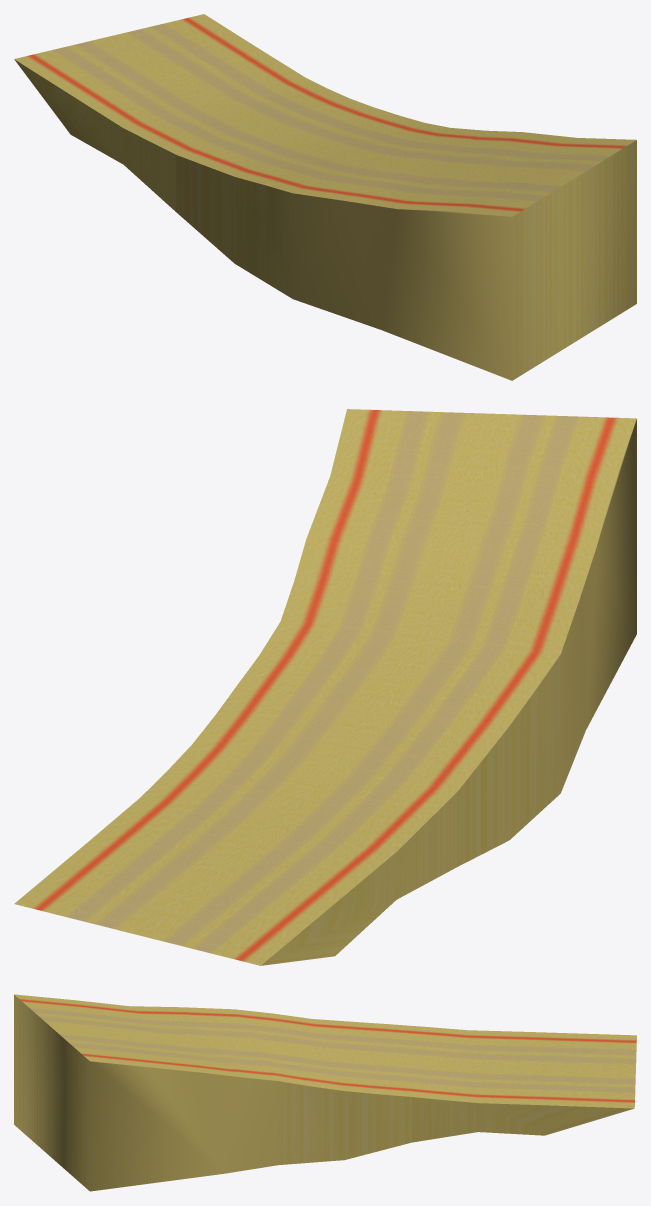
The model's file is ReverseRamp.glb.
3 views of the same model, one above another, from view 1: azimuth 30°, elevation 25°; view 2: azimuth 150°, elevation 25°; view 3: azimuth 270°, elevation 25° (orthographic). The views are drawn at different scales.
Visible parts, largest first — view 1: road4.jpg__, road3.jpg__, road_change3.jpg__; view 2: road3.jpg__, road4.jpg__, road_change3.jpg__; view 3: road3.jpg__, road4.jpg__, road_change3.jpg__.
Part boxes in pixels (<box>): road4.jpg__: <box>176,140,636,380</box>; road3.jpg__: <box>14,14,636,216</box>; road_change3.jpg__: <box>14,59,176,211</box>; road3.jpg__: <box>14,409,636,965</box>; road4.jpg__: <box>458,419,636,866</box>; road_change3.jpg__: <box>261,791,457,965</box>; road3.jpg__: <box>14,994,636,1108</box>; road4.jpg__: <box>14,995,411,1191</box>; road_change3.jpg__: <box>411,1097,633,1142</box>.
Bounding box in the file's own units: 17.43 × 9.8 × 42.48.
3 materials, 3 textured.
